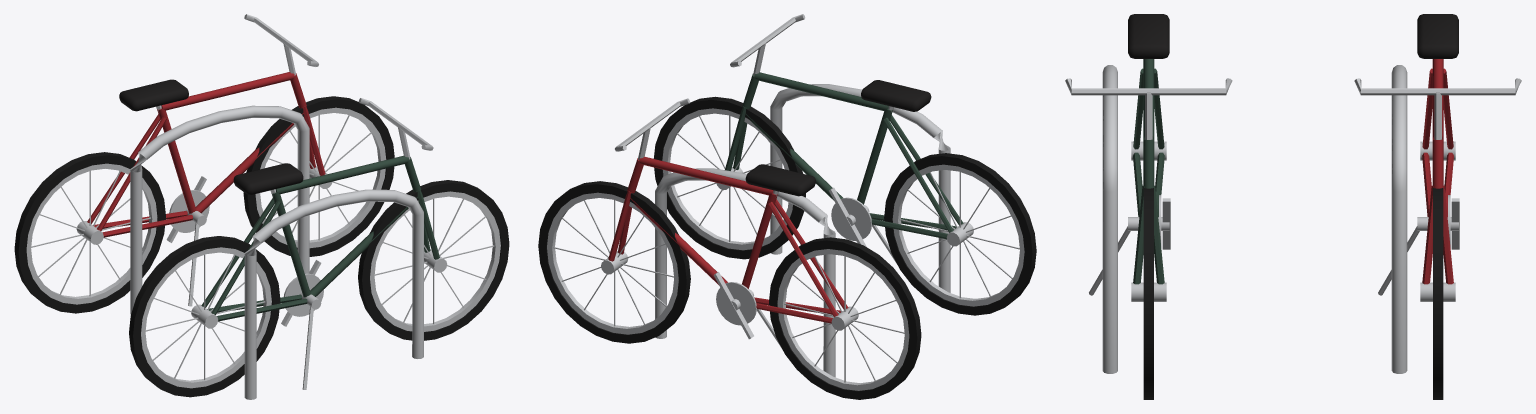
File: bike_stand.glb
3 renders of one model, left to right at view 1: azimuth 30°, elevation 25°; view 2: azimuth 150°, elevation 25°; view 3: azimuth 270°, elevation 25°, orthographic. The views are drawn at different scales.
Visible parts, largest first — view 1: Hoop_LOD0, Hoop_LOD0.001, Tyre_LOD0, Tyre_LOD0.002, Tyre_LOD0.001, Tyre_LOD0.003, Rim_LOD0.001, Rim_LOD0, Rim_LOD0.002, Rim_LOD0.003, Saddle_LOD0, Saddle_LOD0.001 (+17 smaller); view 2: Tyre_LOD0, Tyre_LOD0.002, Tyre_LOD0.003, Tyre_LOD0.001, Hoop_LOD0.001, Hoop_LOD0, Rim_LOD0.002, Rim_LOD0, Rim_LOD0.003, Rim_LOD0.001, Saddle_LOD0, Saddle_LOD0.001 (+18 smaller); view 3: Hoop_LOD0.001, Hoop_LOD0, Tyre_LOD0.001, Tyre_LOD0.003, Saddle_LOD0, Saddle_LOD0.001, Bar_LOD0, Bar_LOD0.001, Fork_LOD0, Fork_LOD0.003, Fork_LOD0.001, Fork_LOD0.002 (+12 smaller).
Part boxes in pixels (x1,y1,x2,y2): Hoop_LOD0: [244, 189, 423, 399]; Hoop_LOD0.001: [130, 105, 309, 314]; Tyre_LOD0: [129, 236, 280, 397]; Tyre_LOD0.002: [14, 152, 165, 313]; Tyre_LOD0.001: [358, 180, 509, 340]; Tyre_LOD0.003: [243, 96, 394, 256]; Rim_LOD0.001: [370, 191, 500, 331]; Rim_LOD0: [141, 247, 271, 388]; Rim_LOD0.002: [26, 163, 157, 304]; Rim_LOD0.003: [255, 107, 386, 248]; Saddle_LOD0: [233, 163, 303, 194]; Saddle_LOD0.001: [119, 79, 188, 111]; Tyre_LOD0: [884, 153, 1036, 315]; Tyre_LOD0.002: [769, 237, 921, 399]; Tyre_LOD0.003: [538, 181, 690, 343]; Tyre_LOD0.001: [653, 96, 805, 259]; Hoop_LOD0.001: [655, 168, 835, 377]; Hoop_LOD0: [770, 84, 950, 292]; Rim_LOD0.002: [777, 249, 909, 390]; Rim_LOD0: [892, 164, 1024, 306]; Rim_LOD0.003: [547, 192, 678, 334]; Rim_LOD0.001: [662, 108, 792, 250]; Saddle_LOD0: [861, 80, 931, 111]; Saddle_LOD0.001: [745, 164, 815, 196]; Hoop_LOD0.001: [1391, 65, 1407, 373]; Hoop_LOD0: [1102, 65, 1117, 373]; Tyre_LOD0.001: [1143, 188, 1153, 399]; Tyre_LOD0.003: [1433, 188, 1443, 399]; Saddle_LOD0: [1128, 14, 1169, 58]; Saddle_LOD0.001: [1417, 14, 1458, 58]; Bar_LOD0: [1065, 78, 1232, 95]; Bar_LOD0.001: [1354, 78, 1521, 95]; Fork_LOD0: [1133, 186, 1144, 284]; Fork_LOD0.003: [1442, 186, 1453, 284]; Fork_LOD0.001: [1153, 185, 1164, 284]; Fork_LOD0.002: [1422, 185, 1433, 284].
Bounding box in the file's own units: 1.71 × 0.9826 × 1.42.
